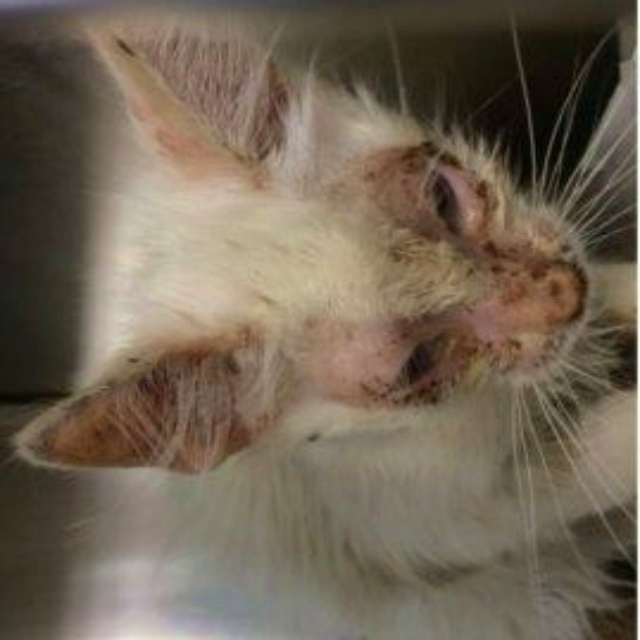ringworm: (340, 311, 422, 394), (475, 241, 553, 317), (352, 141, 425, 220), (438, 332, 510, 374)
